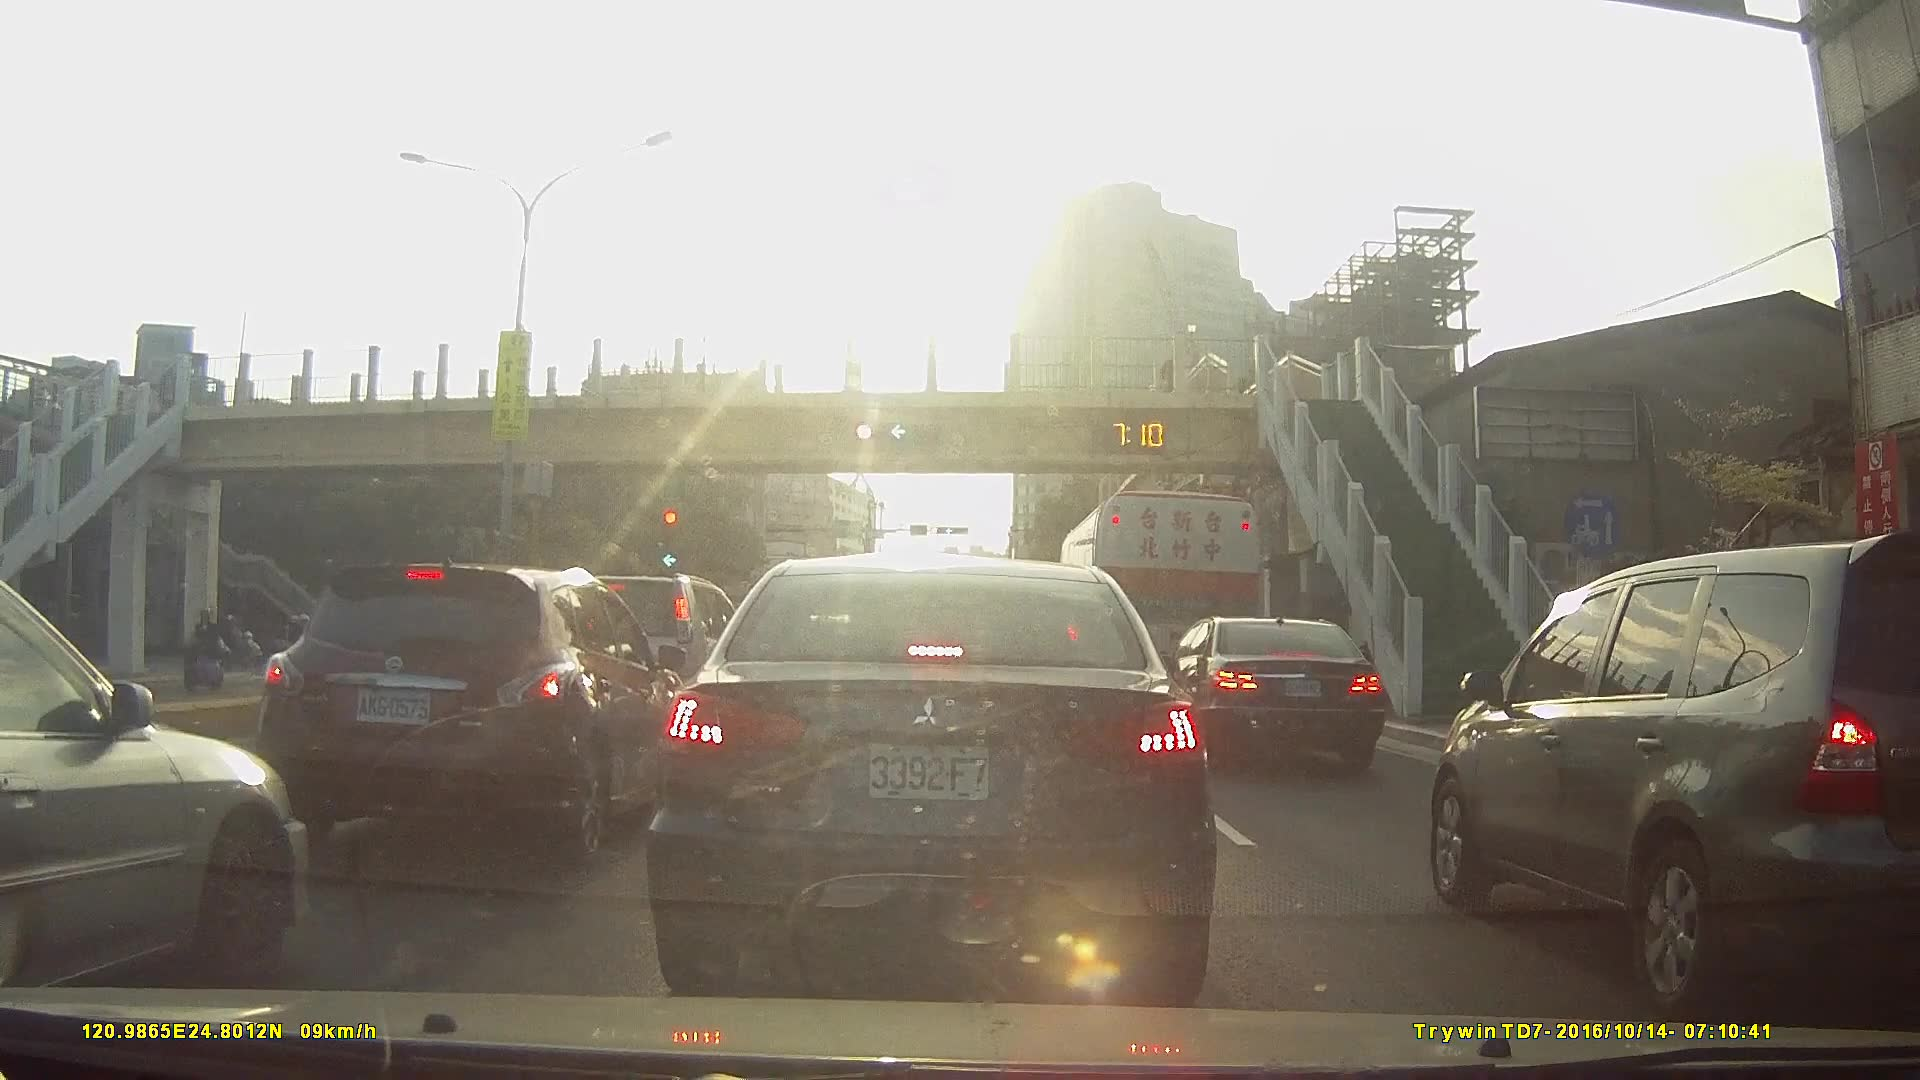pedestrian: (1161, 339, 1188, 396)
rider: (183, 601, 231, 689), (209, 613, 267, 669)
vehicle: (643, 552, 1218, 1004), (1421, 530, 1920, 1011), (253, 557, 694, 868), (0, 573, 314, 1004), (1056, 486, 1264, 729), (1151, 616, 1388, 771)
